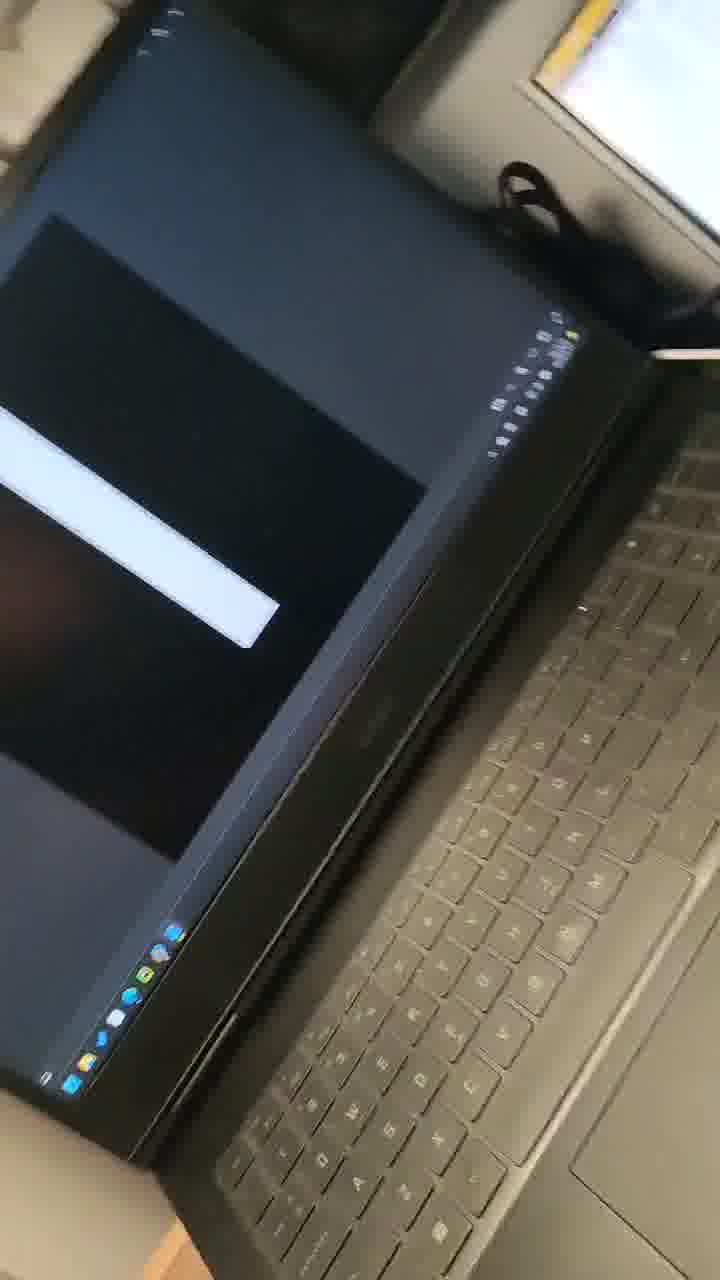one: (7, 354, 308, 713)
